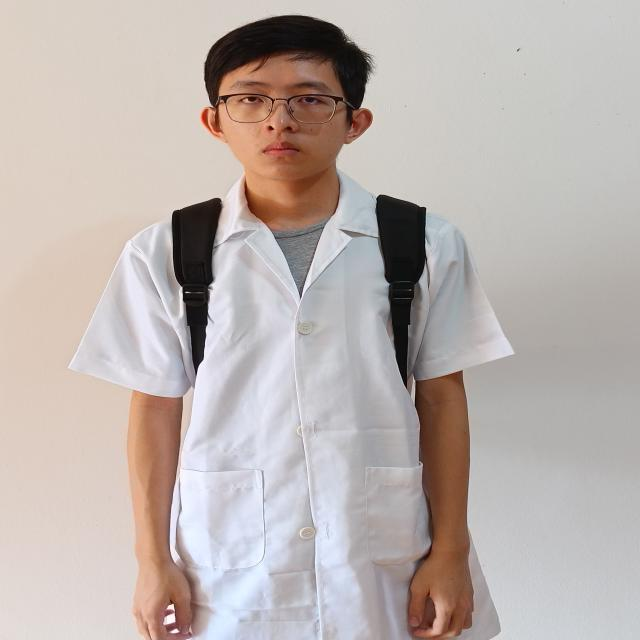person_with_labcoat: (70, 15, 513, 640)
